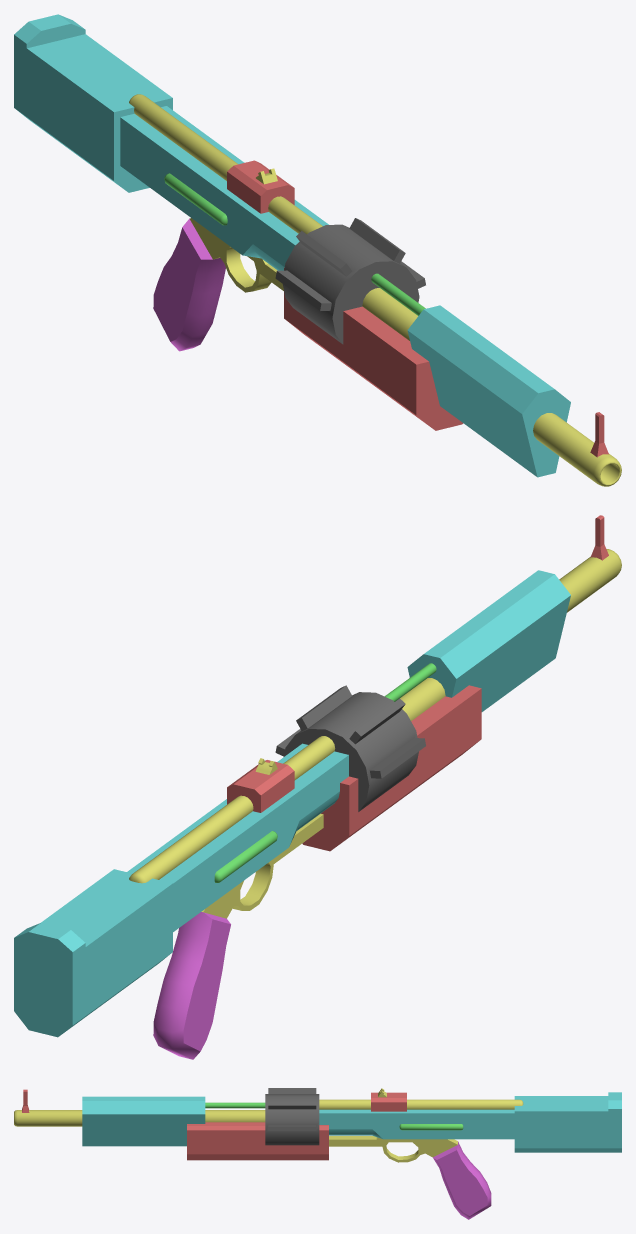
Rendered from MachineGunPainter.fbx.
3 renders of one model, top to bottom at view 1: azimuth 30°, elevation 25°; view 2: azimuth 150°, elevation 25°; view 3: azimuth 270°, elevation 25°, orthographic. The views are drawn at different scales.
Parts seen in each view (by area): view 1: Distance_Machinegun; view 2: Distance_Machinegun; view 3: Distance_Machinegun.
Part boxes in pixels (x1,y1,x2,y2): Distance_Machinegun: (14, 14, 621, 486); Distance_Machinegun: (14, 515, 621, 1059); Distance_Machinegun: (14, 1088, 621, 1219).
Bounding box in the file's own units: 0.1484 × 0.3194 × 1.37.
